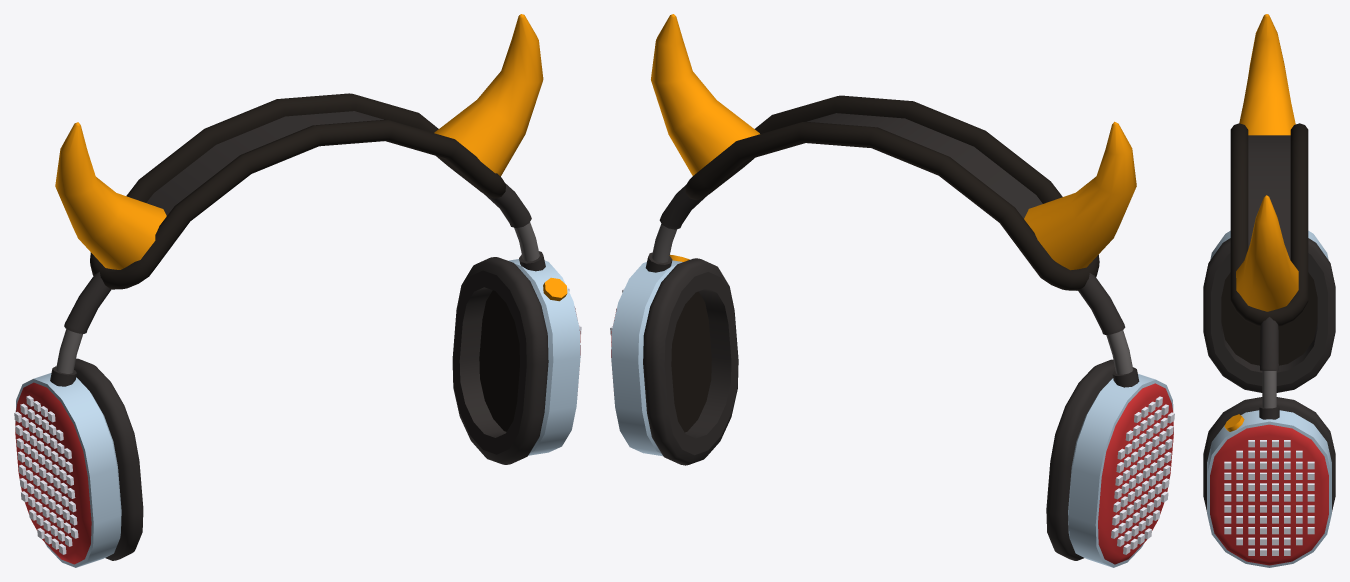
Rendered from Headphones_02_03.fbx.
3 views of the same model, side by side, from view 1: azimuth 30°, elevation 25°; view 2: azimuth 150°, elevation 25°; view 3: azimuth 270°, elevation 25° (orthographic). The views are drawn at different scales.
Parts seen in each view (by area): view 1: Headphones_02_03; view 2: Headphones_02_03; view 3: Headphones_02_03.
Boxes of the visible parts, box(x1,y1,x2,y2) form: Headphones_02_03: box(14, 14, 581, 567); Headphones_02_03: box(610, 14, 1174, 567); Headphones_02_03: box(1203, 14, 1335, 567).
Bounding box in the file's own units: 47.63 × 38.67 × 12.55.
